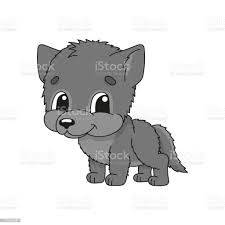Lobo: (30, 34, 192, 188)
